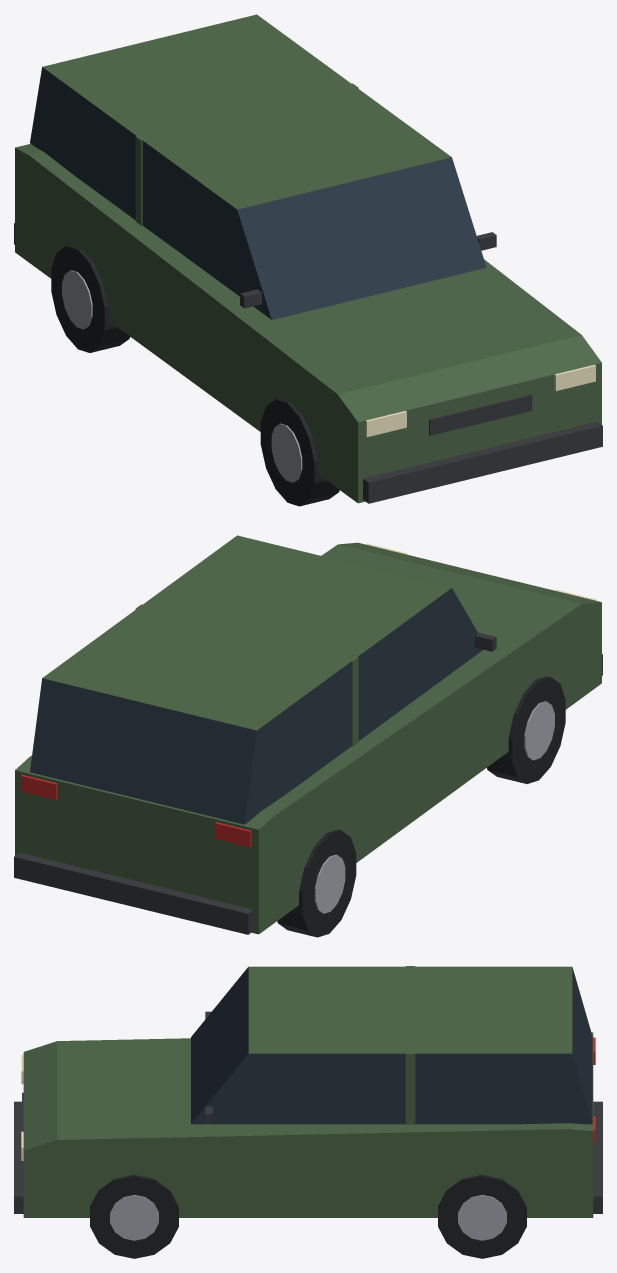
The model's file is suv.glb.
3 renders of one model, top to bottom at view 1: azimuth 30°, elevation 25°; view 2: azimuth 150°, elevation 25°; view 3: azimuth 270°, elevation 25°, orthographic. The views are drawn at different scales.
Visible parts, largest first — view 1: Body, Wheel_FR, Wheel_RR; view 2: Body, Wheel_RR, Wheel_FR; view 3: Body, Wheel_FL, Wheel_RL.
Part boxes in pixels (box(x1,y1,x2,y2)): Body: box(14, 14, 602, 503); Wheel_FR: box(260, 398, 339, 506); Wheel_RR: box(51, 245, 129, 352); Body: box(14, 535, 602, 934); Wheel_RR: box(277, 829, 356, 937); Wheel_FR: box(487, 676, 565, 783); Body: box(14, 966, 602, 1217); Wheel_FL: box(90, 1174, 178, 1258); Wheel_RL: box(438, 1174, 526, 1258).
Size of the model in its own units: 2.03 by 1.82 by 4.91.
